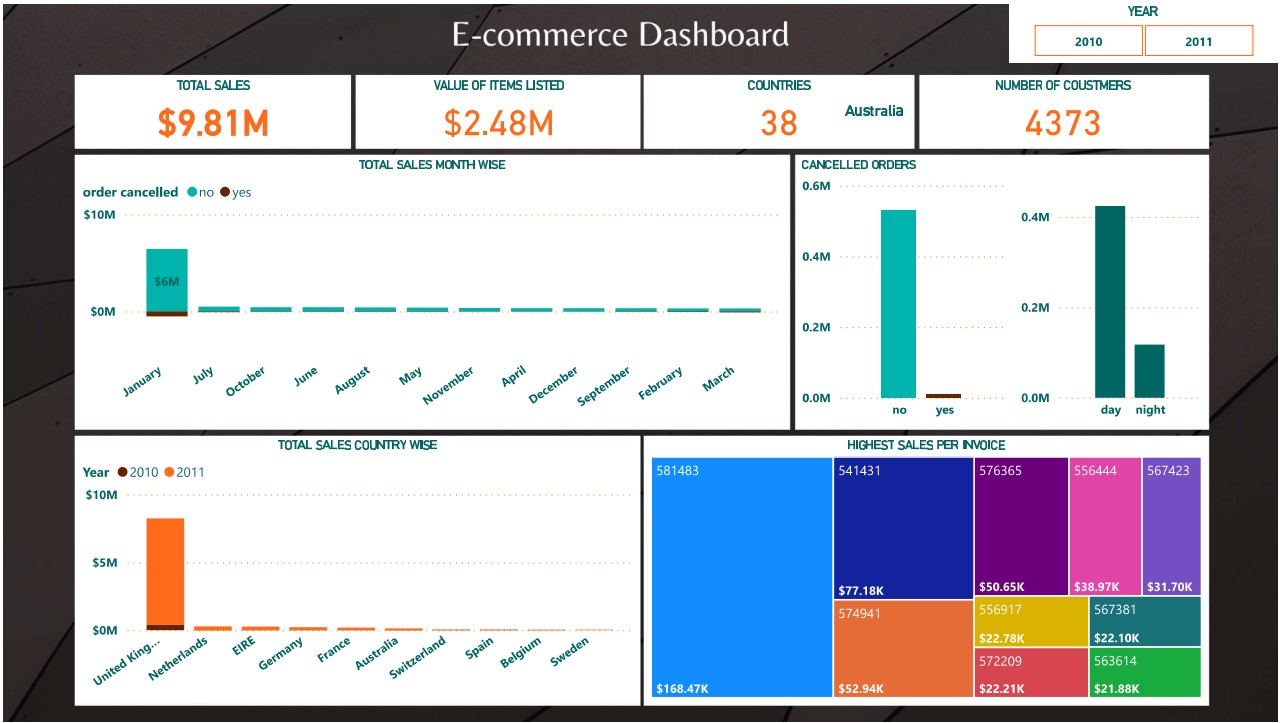

Layout of this report page (visuals, bound fields, positions):
{"tool":"powerbi","page":{"name":"Page 1","canvas":[1280,720],"ordinal":0},"visuals":[{"type":"card","title":"TOTAL SALES","fields":{"Values":["Sum(DDDDDDDDDD.Sale)"]},"box":[74.5,74.5,272.7,69.1],"z":0},{"type":"columnChart","title":"CANCELLED ORDERS","fields":{"Category":["DDDDDDDDDD.order cancelled"],"Y":["CountNonNull(DDDDDDDDDD.InvoiceNo)"]},"box":[797,154,213,271],"z":1000},{"type":"columnChart","title":"TOTAL SALES MONTH WISE","fields":{"Category":["DDDDDDDDDD.Month"],"Y":["Sum(DDDDDDDDDD.Sale)"],"Series":["DDDDDDDDDD.order cancelled"]},"box":[74.5,154.5,712.7,270.9],"z":2000},{"type":"card","title":"VALUE OF ITEMS LISTED","fields":{"Values":["Sum(DDDDDDDDDD.UnitPrice)"]},"box":[356.4,74.5,281.3,69],"z":3000},{"type":"card","title":"COUNTRIES","fields":{"Values":["Count(DDDDDDDDDD.Country)"]},"box":[645.4,74.5,267.5,69],"z":4000},{"type":"card","title":"NUMBER OF COUSTMERS","fields":{"Values":["Count(DDDDDDDDDD.CustomerID)"]},"box":[922.1,74.5,286.5,69],"z":5000},{"type":"columnChart","title":"TOTAL SALES COUNTRY WISE","fields":{"Y":["Sum(DDDDDDDDDD.Sale)"],"Category":["DDDDDDDDDD.Country"],"Series":["DDDDDDDDDD.Year"]},"box":[74.5,436.4,562.7,266.4],"z":6000},{"type":"treemap","title":"HIGHEST SALES PER INVOICE","fields":{"Group":["DDDDDDDDDD.InvoiceNo"],"Values":["Sum(DDDDDDDDDD.Sale)"]},"box":[645.5,436.4,562.7,266.4],"z":7000},{"type":"card","fields":{"Values":["Min(DDDDDDDDDD.CustomerID)"]},"box":[1135.8,74.2,73.3,70],"z":8000},{"type":"card","fields":{"Values":["Min(DDDDDDDDDD.Country)"]},"box":[839.2,73.3,73.3,70],"z":9000},{"type":"slicer","title":"YEAR","fields":{"Values":["DDDDDDDDDD.Year"]},"box":[1009.8,0,269.9,59.5],"z":9001},{"type":"columnChart","fields":{"Y":["CountNonNull(DDDDDDDDDD.InvoiceNo)"],"Category":["DDDDDDDDDD.Day/Night"]},"box":[1016.7,154.2,191.7,270.8],"z":9002}]}

Visuals, with their boxes in screenshot pixels (x1, y1, x2, y2), scaled from the page's 1280x720 canvas onto the 1280x723 screenshot:
"TOTAL SALES" card: region(74, 75, 347, 144)
"CANCELLED ORDERS" columnChart: region(797, 155, 1010, 427)
"TOTAL SALES MONTH WISE" columnChart: region(74, 155, 787, 427)
"VALUE OF ITEMS LISTED" card: region(356, 75, 638, 144)
"COUNTRIES" card: region(645, 75, 913, 144)
"NUMBER OF COUSTMERS" card: region(922, 75, 1209, 144)
"TOTAL SALES COUNTRY WISE" columnChart: region(74, 438, 637, 706)
"HIGHEST SALES PER INVOICE" treemap: region(646, 438, 1208, 706)
card - Min(DDDDDDDDDD.CustomerID): region(1136, 75, 1209, 145)
card - Min(DDDDDDDDDD.Country): region(839, 74, 912, 144)
"YEAR" slicer: region(1010, 0, 1279, 60)
columnChart - CountNonNull(DDDDDDDDDD.InvoiceNo) x DDDDDDDDDD.Day/Night: region(1017, 155, 1208, 427)
